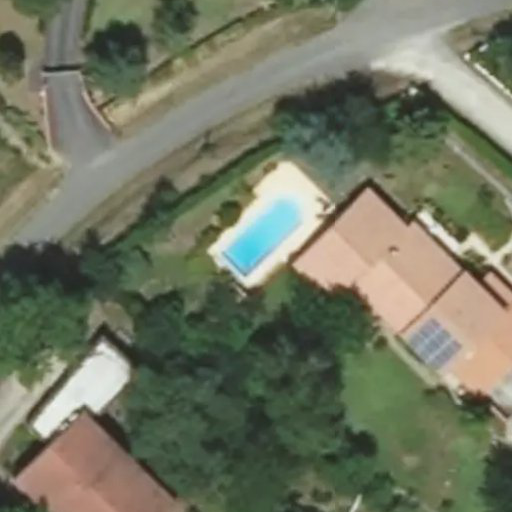pool: (221, 192, 303, 277)
